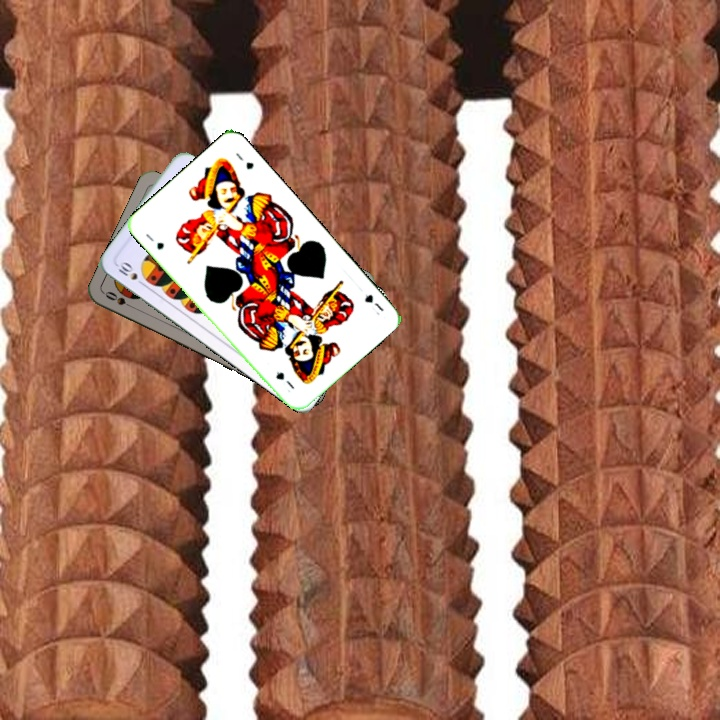GU: (360, 290, 387, 318), (141, 230, 167, 252)
S10: (113, 257, 148, 289)
SO: (101, 287, 139, 312)
